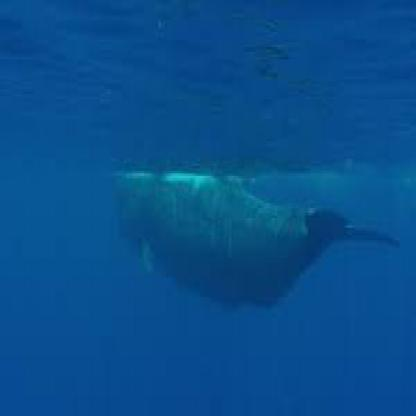sperm_whale: (102, 119, 411, 334)
